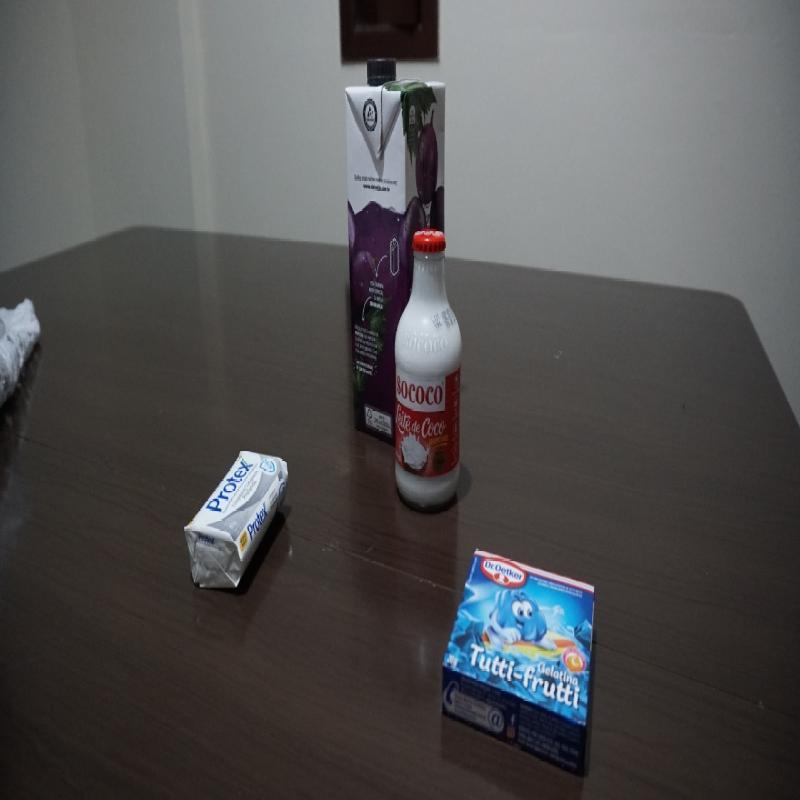Coconut Milk: (393, 227, 462, 515)
Gelatine: (442, 547, 598, 777)
Soap: (182, 449, 290, 591)
